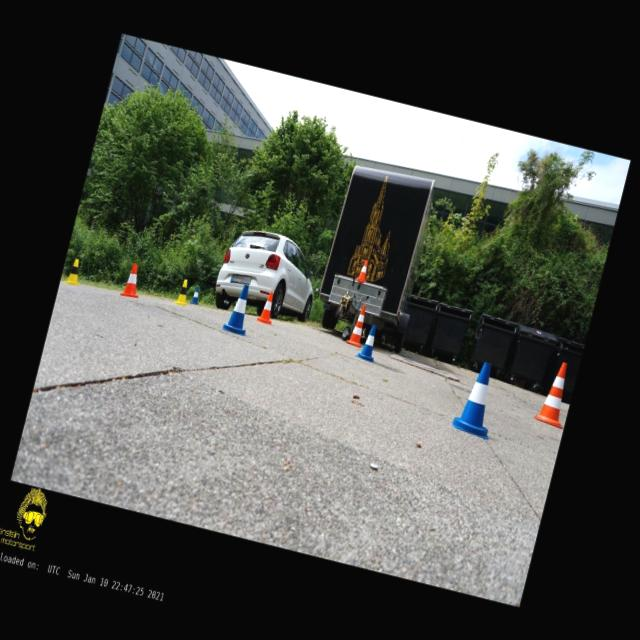blue_cone: (450, 358, 506, 440), (221, 282, 256, 336), (354, 322, 382, 362), (190, 285, 202, 305)
large_orange_cone: (532, 358, 578, 428), (345, 302, 371, 348)
orange_cone: (119, 262, 145, 300), (255, 290, 278, 324), (356, 258, 370, 282)
yellow_cone: (64, 257, 85, 285), (172, 278, 192, 306)
